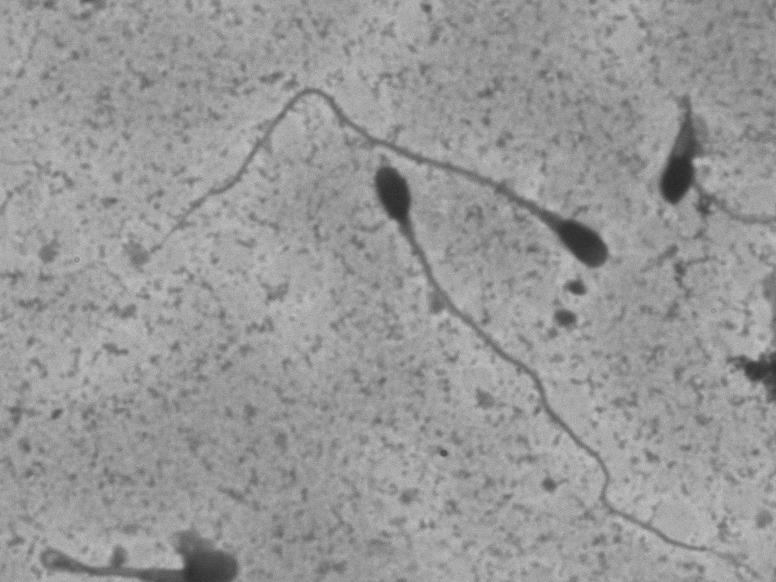Abnormal: (124, 71, 618, 284), (633, 68, 756, 243)
Normal: (359, 157, 756, 573)
